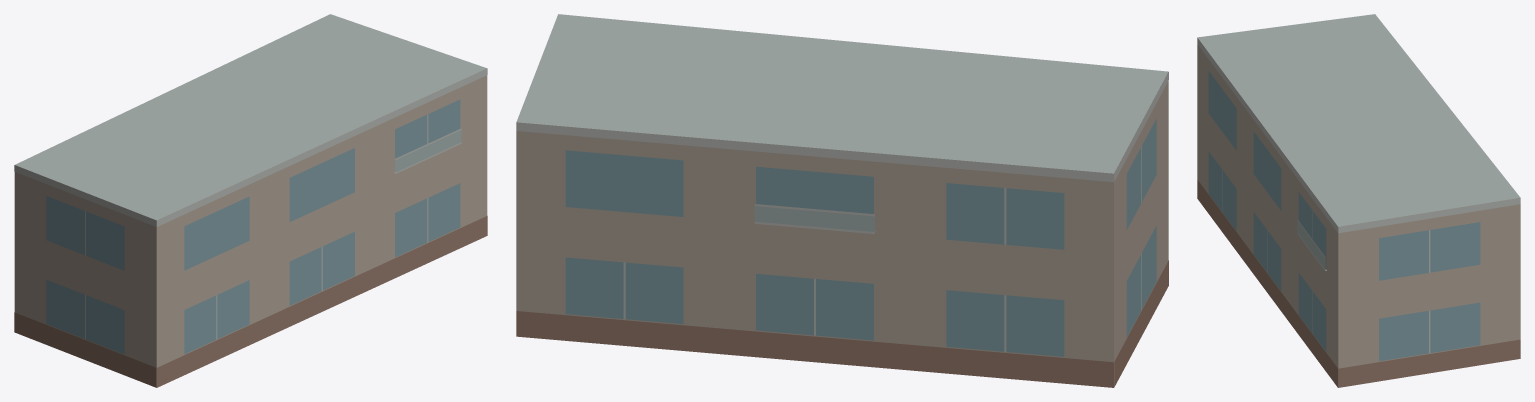
The model's file is survey-upis-32586436.glb.
The picture shows the model from 3 angles, left to right: view 1: azimuth 30°, elevation 25°; view 2: azimuth 150°, elevation 25°; view 3: azimuth 270°, elevation 25°; orthographic projection. The views are drawn at different scales.
Parts seen in each view (by area): view 1: survey-upis-32586436.tmp; view 2: survey-upis-32586436.tmp; view 3: survey-upis-32586436.tmp.
Boxes of the visible parts, x1,y1,x2,y2 form: survey-upis-32586436.tmp: (14, 14, 487, 387); survey-upis-32586436.tmp: (516, 14, 1168, 387); survey-upis-32586436.tmp: (1197, 14, 1520, 387).
Bounding box in the file's own units: 17.3 × 6.1 × 11.11.
